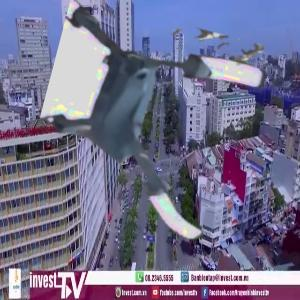drone: (42, 19, 262, 239)
